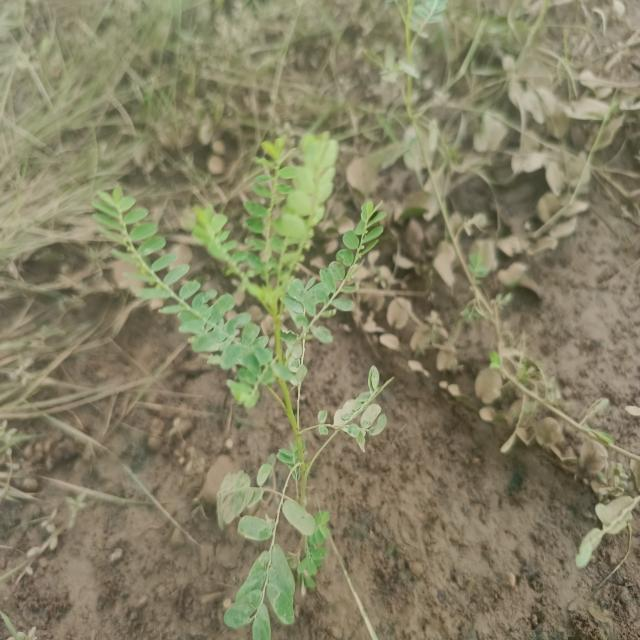weed: (88, 130, 385, 637)
